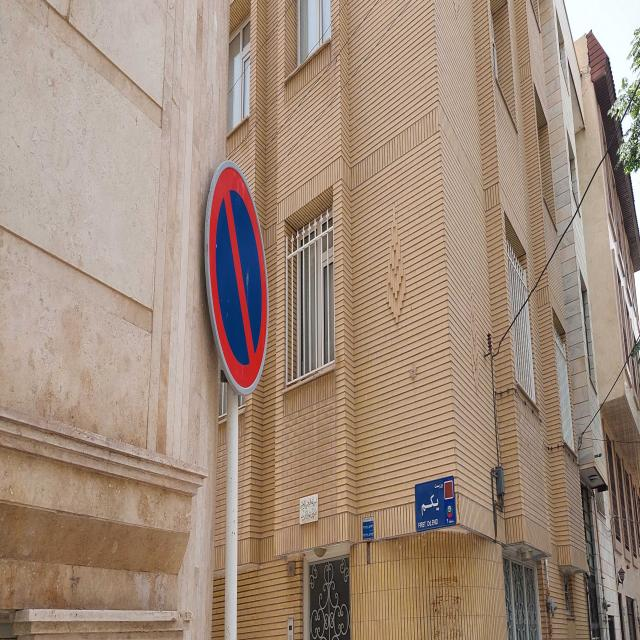forb_stopping: (203, 161, 268, 397)
